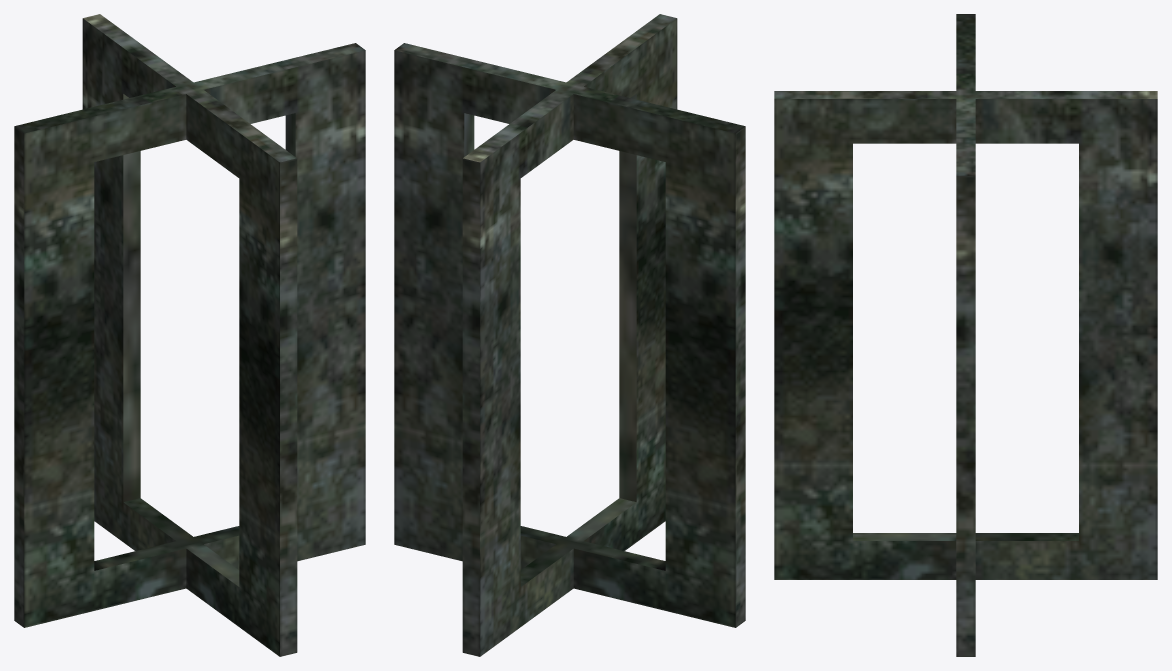
The model's file is Turner.glb.
3 renders of one model, left to right at view 1: azimuth 30°, elevation 25°; view 2: azimuth 150°, elevation 25°; view 3: azimuth 270°, elevation 25°, orthographic. The views are drawn at different scales.
Parts seen in each view (by area): view 1: Cube; view 2: Cube; view 3: Cube.
Boxes of the visible parts, x1,y1,x2,y2 form: Cube: (14, 14, 365, 656); Cube: (394, 14, 745, 656); Cube: (774, 14, 1157, 656).
Bounding box in the file's own units: 9.23 × 12.78 × 9.23.
Materials: 1 (1 with a texture image).
